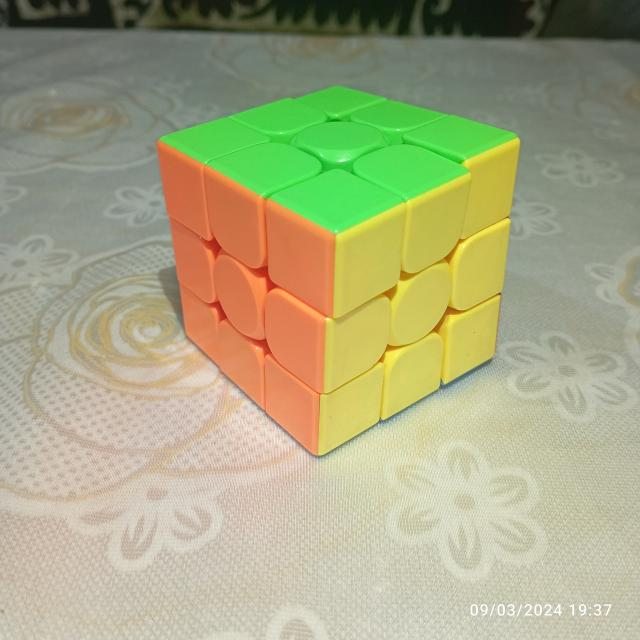Rub: (148, 76, 524, 461)
